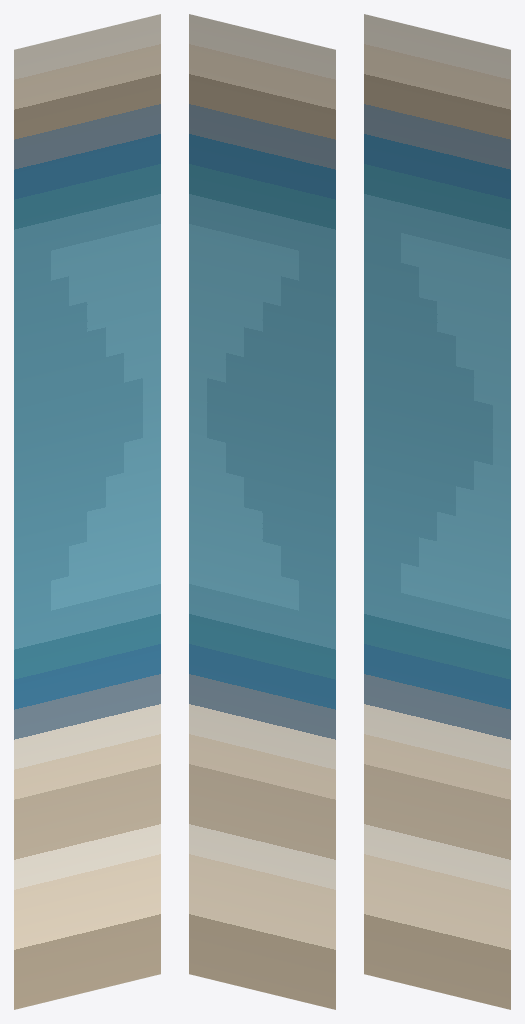
The picture shows the model from 3 angles, left to right: view 1: azimuth 30°, elevation 25°; view 2: azimuth 150°, elevation 25°; view 3: azimuth 330°, elevation 25°; orthographic projection.
Size of the model in its own units: 0.5 by 3.12 by 0.
Materials: 1 (1 with a texture image).
